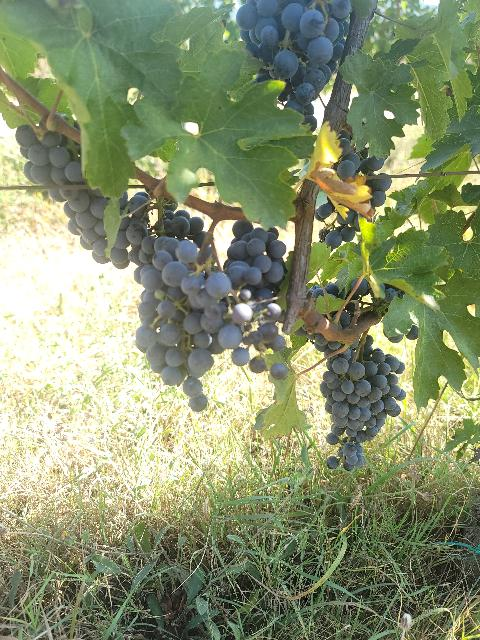grapes: (16, 125, 130, 269), (236, 0, 351, 131), (146, 240, 231, 411), (200, 220, 286, 372), (320, 350, 406, 471), (116, 191, 191, 326)
